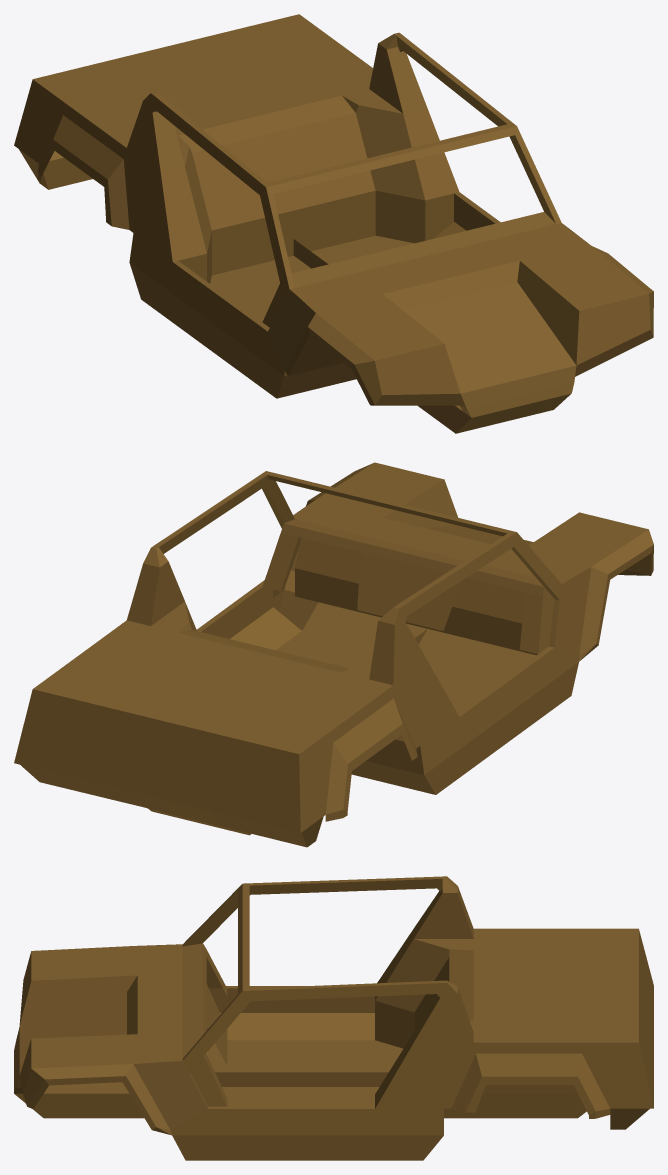
Rendered from Cheetah_01_chassis.glb.
3 views of the same model, one above another, from view 1: azimuth 30°, elevation 25°; view 2: azimuth 150°, elevation 25°; view 3: azimuth 270°, elevation 25° (orthographic). The views are drawn at different scales.
Parts seen in each view (by area): view 1: chassis; view 2: chassis; view 3: chassis.
Part boxes in pixels (left/top/right/bottom): chassis: left=14, top=14, right=653, bottom=433; chassis: left=14, top=462, right=653, bottom=847; chassis: left=14, top=876, right=653, bottom=1160.
Bounding box in the file's own units: 2.29 × 1.34 × 4.64.
